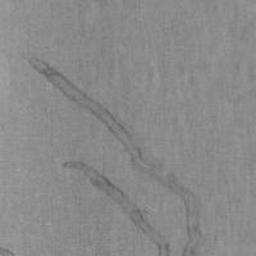Water spot: (19, 50, 204, 256), (63, 160, 170, 256), (0, 247, 14, 256)
